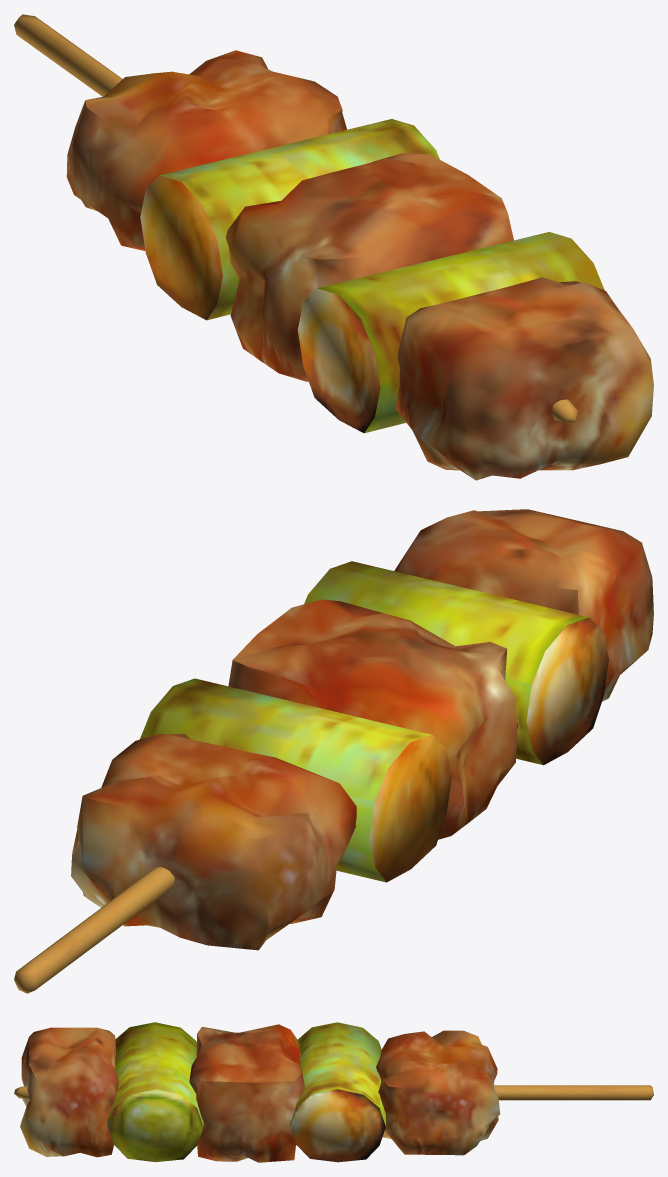
The model's file is BBQSkewers1.obj.
3 renders of one model, top to bottom at view 1: azimuth 30°, elevation 25°; view 2: azimuth 150°, elevation 25°; view 3: azimuth 270°, elevation 25°, orthographic. The views are drawn at different scales.
Parts seen in each view (by area): view 1: all_1; view 2: all_1; view 3: all_1.
Part boxes in pixels (left/top/right/bottom): all_1: left=14, top=14, right=653, bottom=480; all_1: left=14, top=509, right=653, bottom=993; all_1: left=14, top=1022, right=653, bottom=1162.
Size of the model in its own units: 0.7233 by 0.5008 by 2.9.
